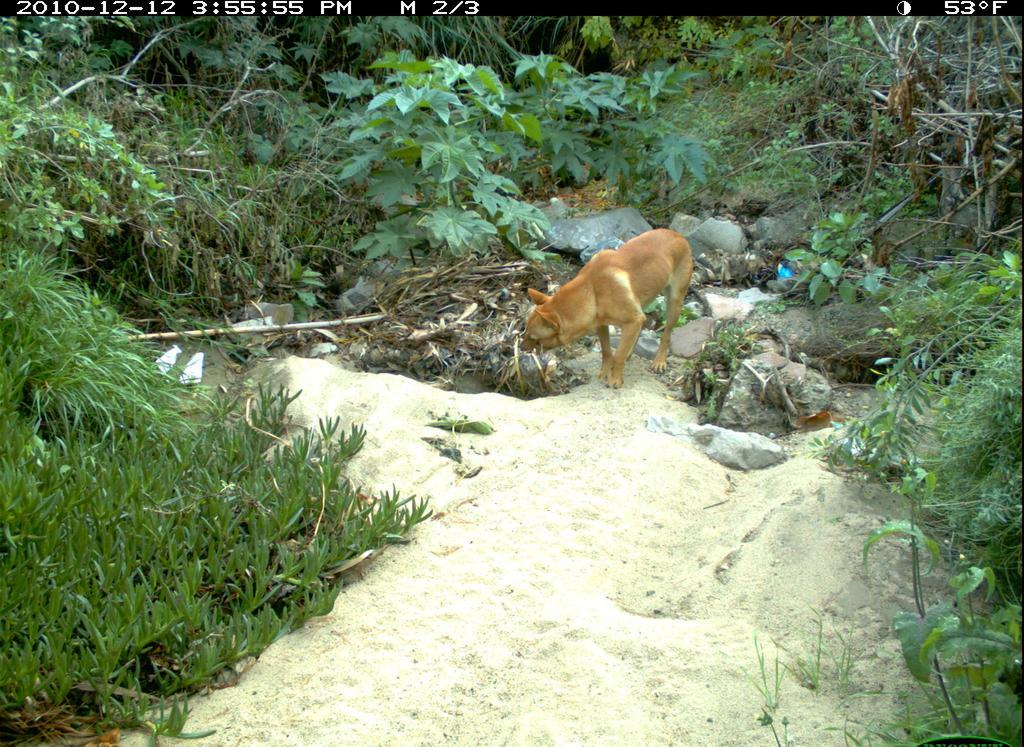dog: (516, 221, 697, 399)
